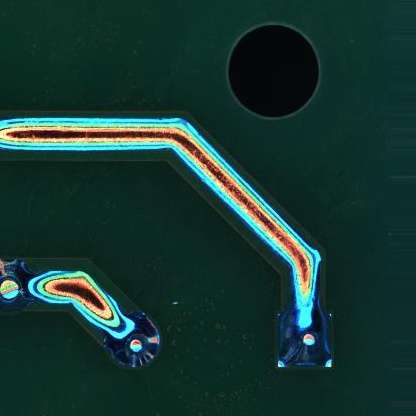spot: (274, 308, 335, 371), (105, 313, 161, 369)
